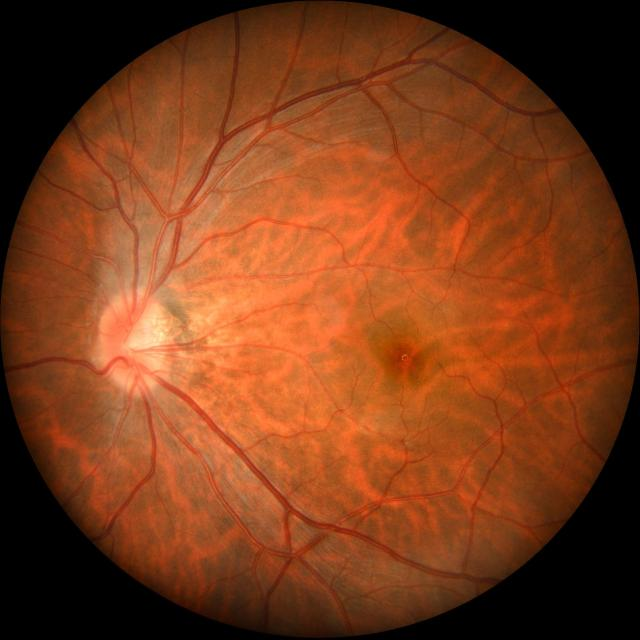OC: (126, 328, 152, 362)
OD: (100, 292, 160, 391)
